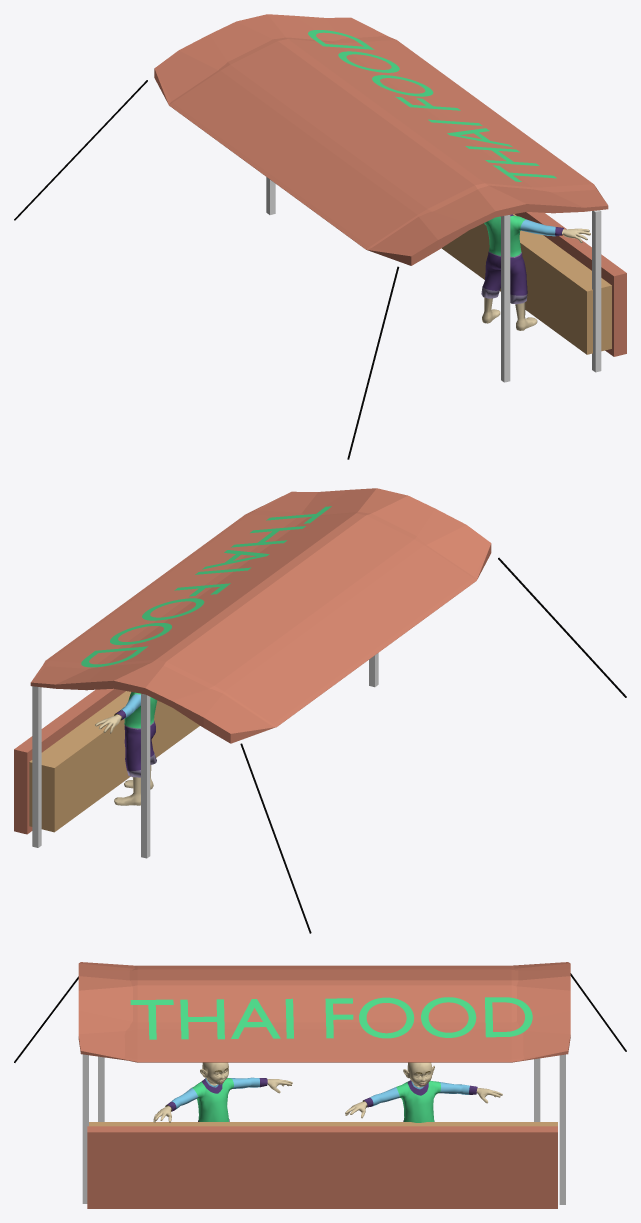
Rendered from ThaiShop.fbx.
The picture shows the model from 3 angles, top to bottom: view 1: azimuth 30°, elevation 25°; view 2: azimuth 150°, elevation 25°; view 3: azimuth 270°, elevation 25°; orthographic projection. The views are drawn at different scales.
Parts seen in each view (by area): view 1: Cube.003, Cube.008, Cube, Pizza, Cube.001, Cube.005; view 2: Cube.003, Cube.008, Cube, Pizza, Cube.002, Cube.004; view 3: Cube, Cube.003, Pizza, Cube.008, Cube.004, Cube.005, Cube.001, Cube.002.
Part boxes in pixels (x1,y1,x2,y2): Cube.003: [154, 14, 608, 265]; Cube.008: [441, 214, 611, 354]; Cube: [481, 212, 626, 356]; Pizza: [308, 30, 556, 181]; Cube.001: [501, 215, 510, 382]; Cube.005: [592, 210, 601, 372]; Cube.003: [30, 488, 491, 743]; Cube.008: [29, 691, 199, 832]; Cube: [14, 688, 157, 834]; Pizza: [81, 506, 331, 667]; Cube.002: [141, 693, 150, 858]; Cube.004: [32, 686, 41, 847]; Cube: [87, 1062, 557, 1208]; Cube.003: [78, 962, 570, 1062]; Pizza: [130, 997, 532, 1039]; Cube.008: [89, 1122, 557, 1126]; Cube.004: [559, 1054, 565, 1204]; Cube.005: [82, 1054, 88, 1203]; Cube.001: [98, 1056, 104, 1121]; Cube.002: [534, 1058, 540, 1121].
Size of the model in its own units: 2.79 by 1.52 by 4.71.
